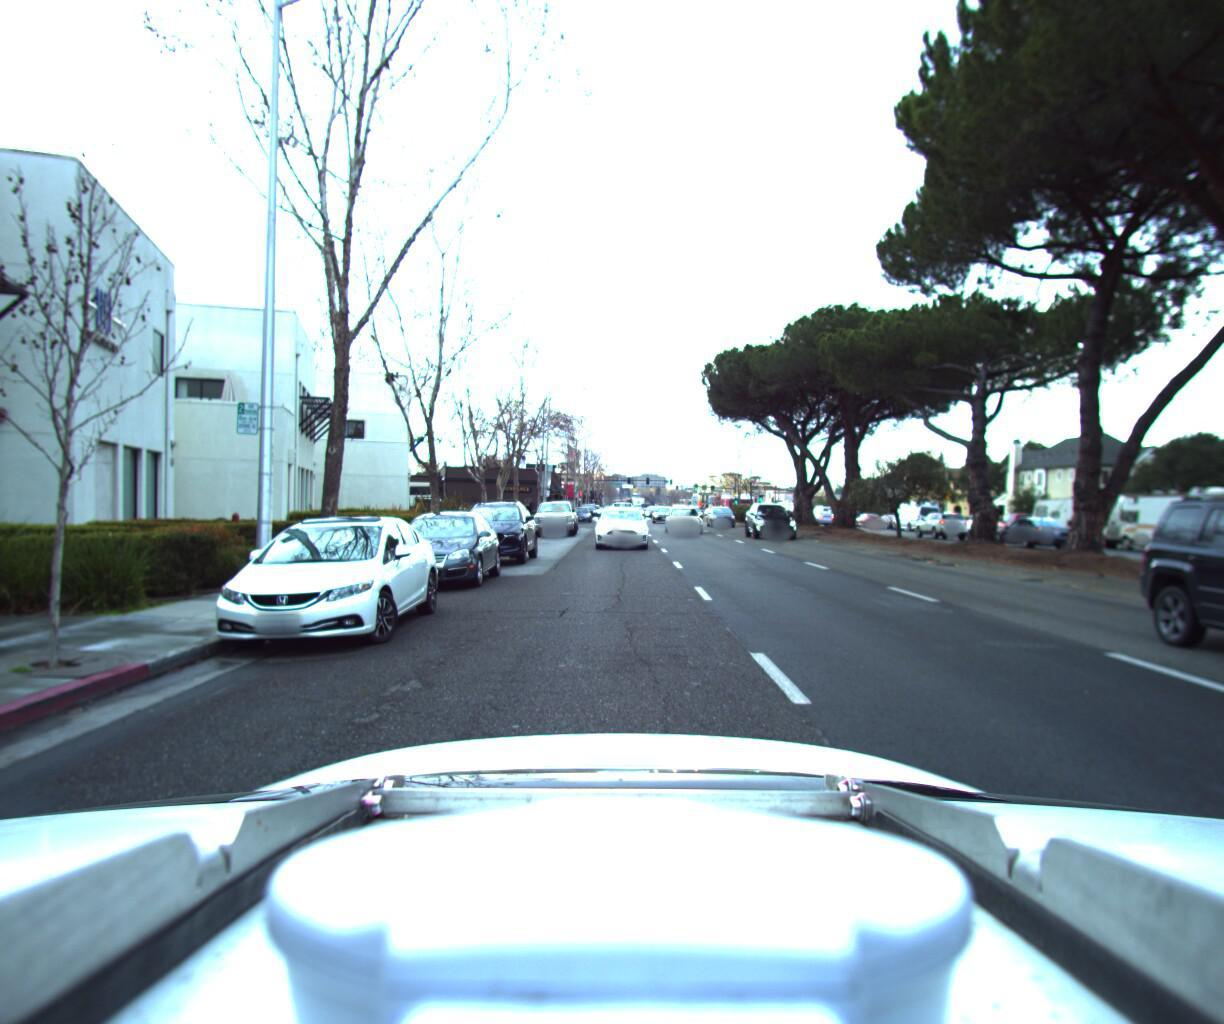car: (174, 499, 449, 666), (370, 499, 506, 589), (1195, 460, 1224, 791), (445, 487, 540, 562), (370, 471, 475, 520), (974, 507, 1060, 541), (591, 495, 647, 544), (745, 493, 807, 535), (888, 489, 943, 526), (530, 491, 580, 531), (906, 501, 964, 531), (661, 496, 703, 531), (706, 493, 737, 520), (603, 492, 633, 518), (852, 504, 886, 521), (801, 501, 831, 518), (571, 497, 592, 515)
other_vehicle: (1024, 482, 1163, 543), (1110, 476, 1224, 550)
